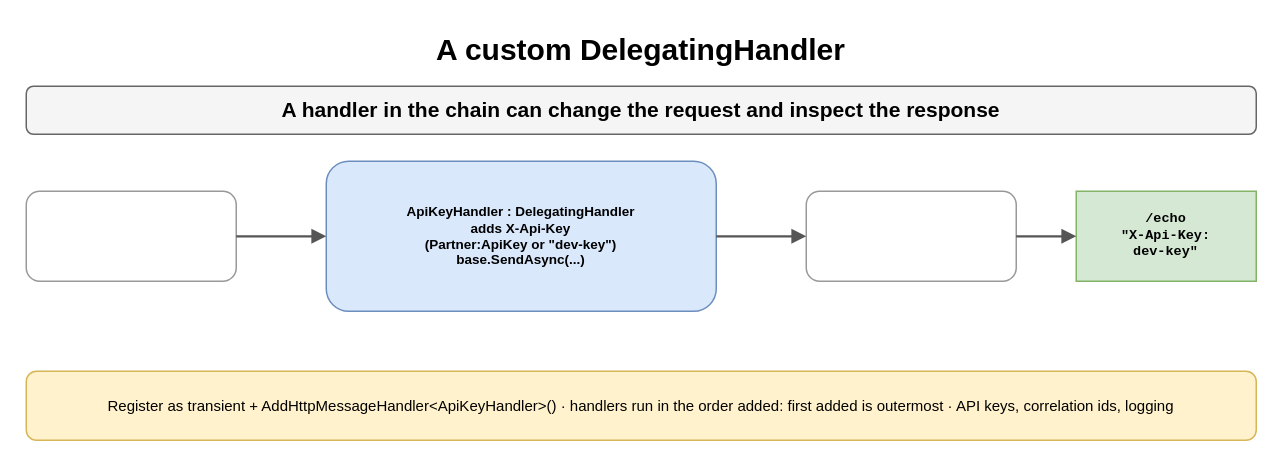
This 1283x467 diagram has some shape labels left out. The shapes that lost their labels are listed below. From the top down, each one's centre as x and y in pixels, then its label:
pixel 130 235: CreateClient ("partner")
pixel 910 235: network handler
